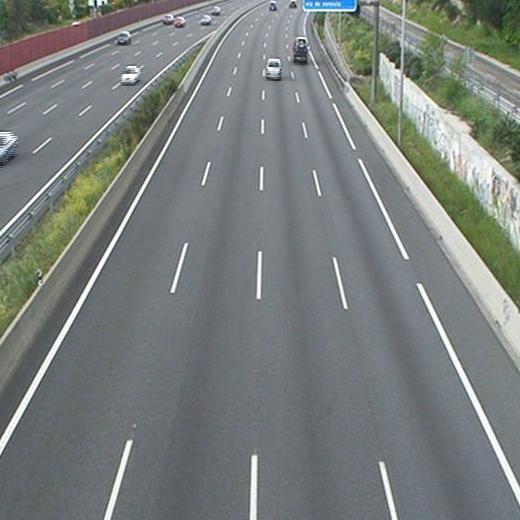car: (264, 58, 283, 79), (295, 36, 308, 56)
